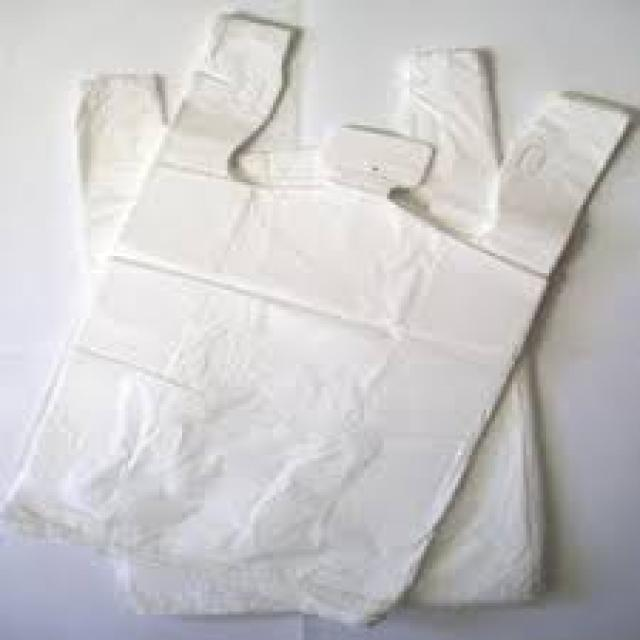plastic: (6, 11, 632, 623), (69, 46, 541, 612)
